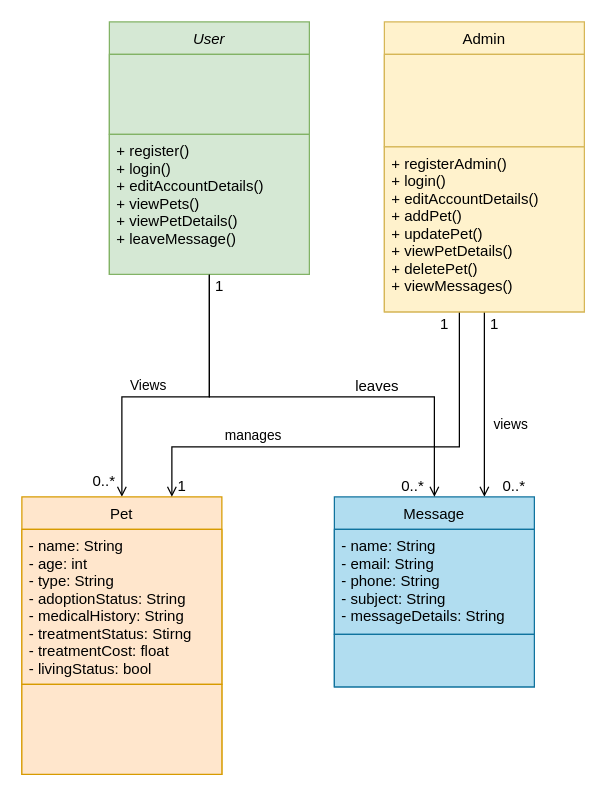
Some shapes in this 606 by 800 pixel diagram are drawn without their labels. Here are the shapes that lost their labels. From the top down, the box of each, then its label:
(108, 53, 309, 134): - username: Stirng - password: String - email: String - profilePic: Image
(383, 53, 584, 147): - username: String - password: String - email: String - profilePIc: Image
(333, 633, 534, 687): + leaveMessage() + viewMessage()
(21, 683, 222, 774): + addPet() + viewPetDetails() + updatePetDetails() + deletePet()
